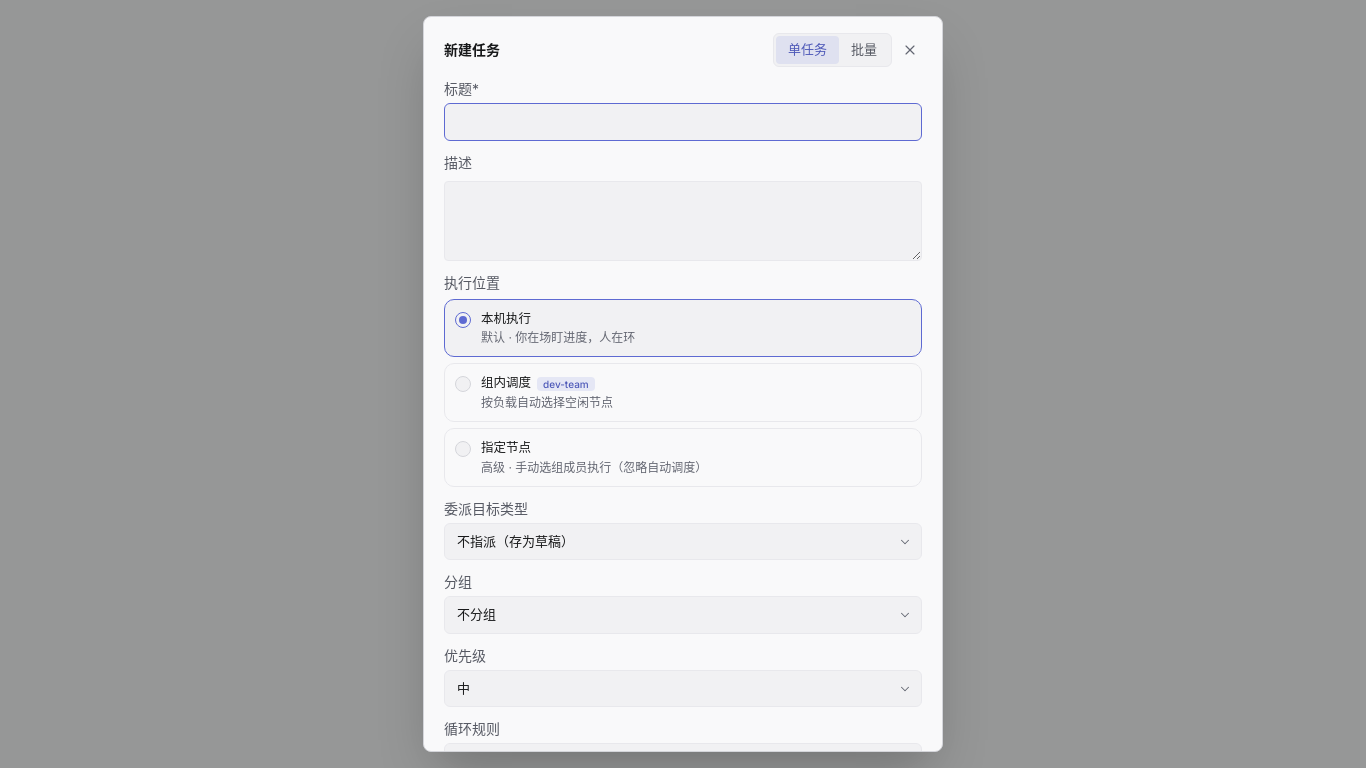
Test: CreateTaskDialog — 外派团队执行（M5.3 X3） › X3-2a. 切团队协作：团队下拉在场 + leader chip 文案（leader 名经 leaderInstanceId 匹配）
Click the radio button named "组内调度".
click(463, 384)  # box [455,376,471,392]
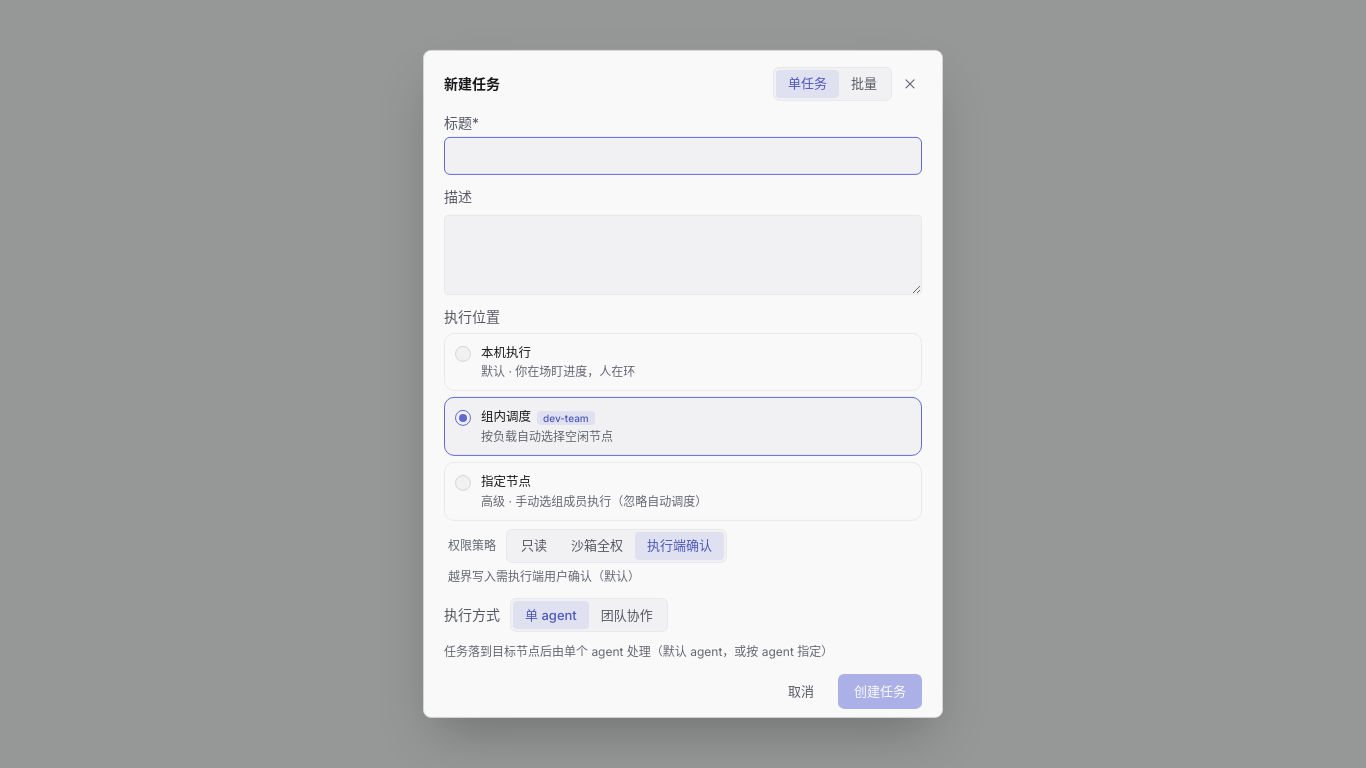
Click the radio button labelled "团队协作".
click(627, 615)  # box [589,601,665,629]
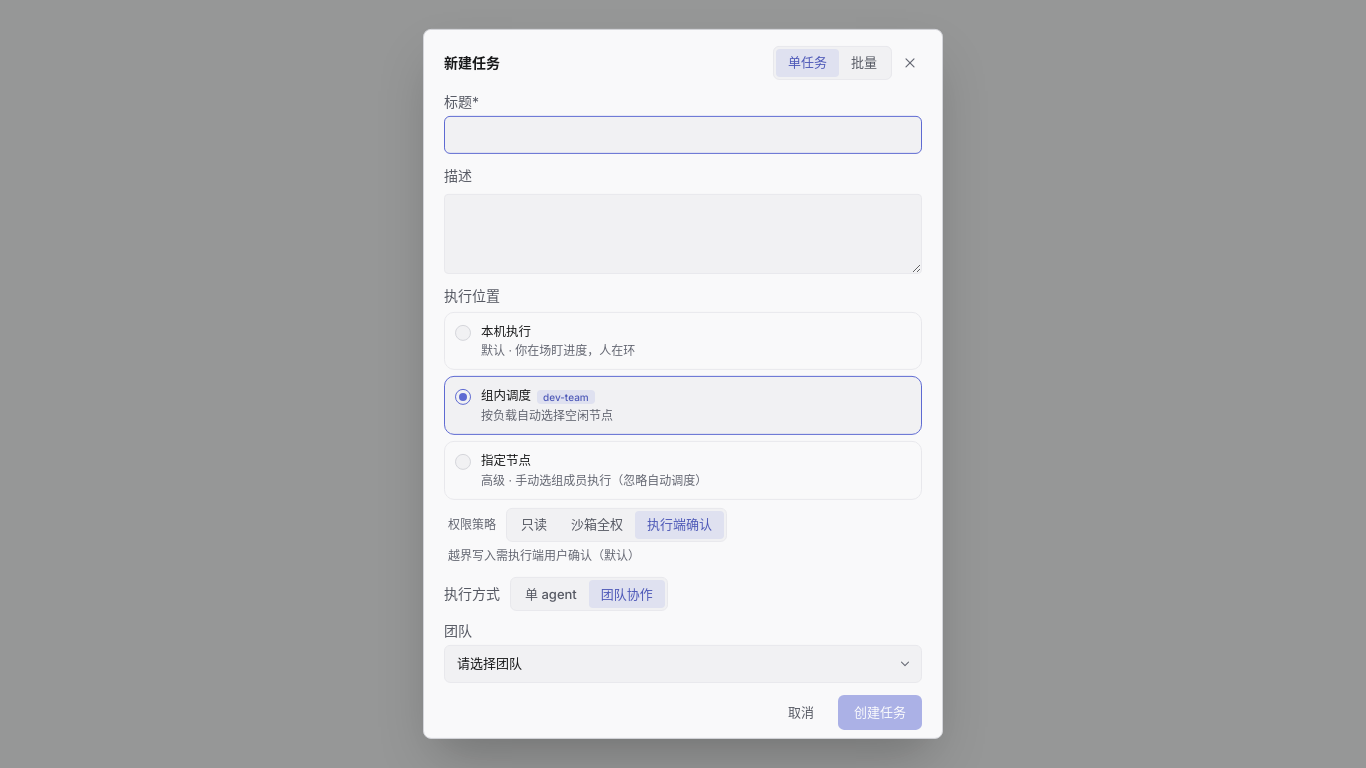
Now the dropdown labelled "团队" shows "请选择团队"
Select "研发突击队" in the dropdown labelled "团队" at (683, 664), box [444,645,922,683]
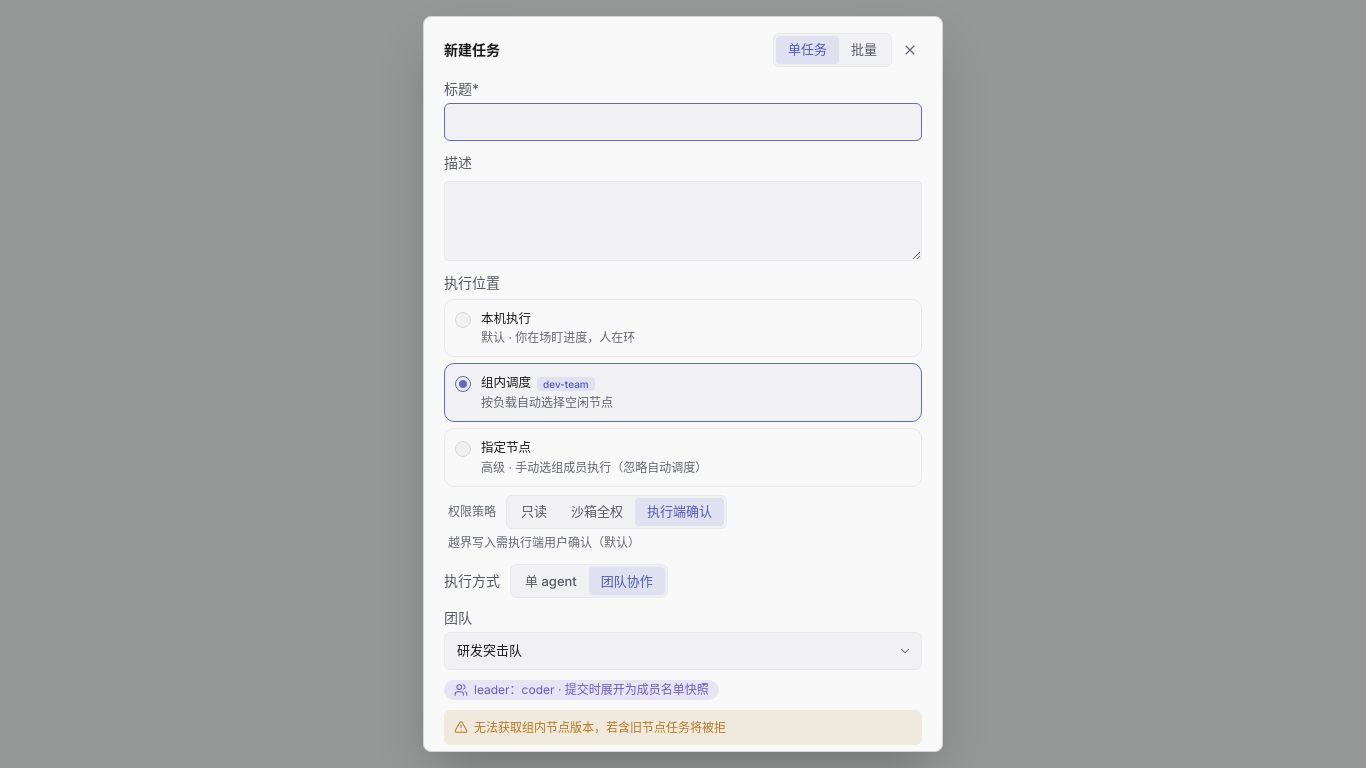
Now the text "leader：coder · 提交时展开为成员名单快照" is shown, box [444,680,719,700]
